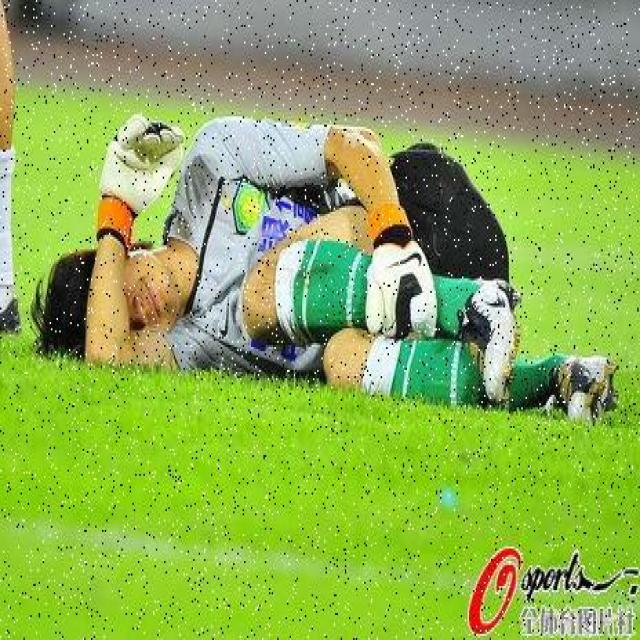fall: (54, 106, 579, 411)
